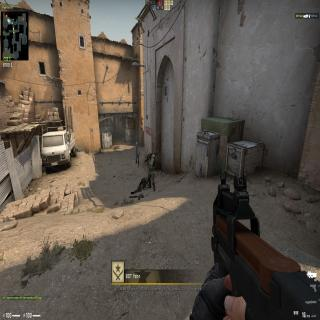CT-Head: (148, 150, 152, 159)
T-Head: (136, 145, 138, 150)
